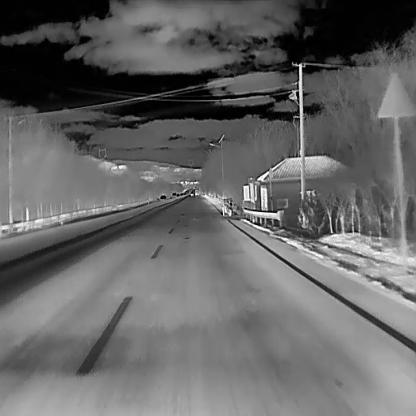car: (159, 194, 166, 202), (195, 189, 200, 197), (171, 191, 176, 197), (190, 192, 193, 197)
